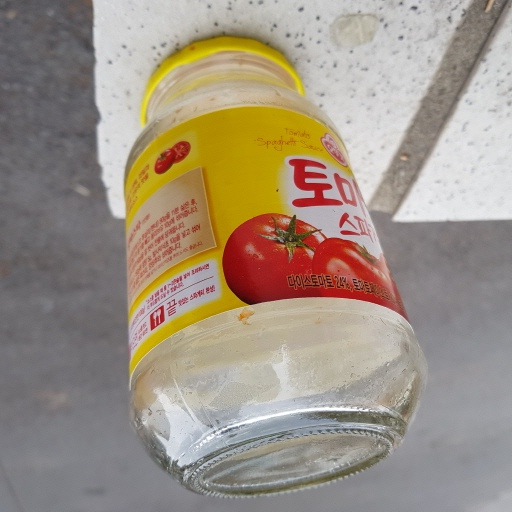Glass_5: (121, 33, 429, 498)
